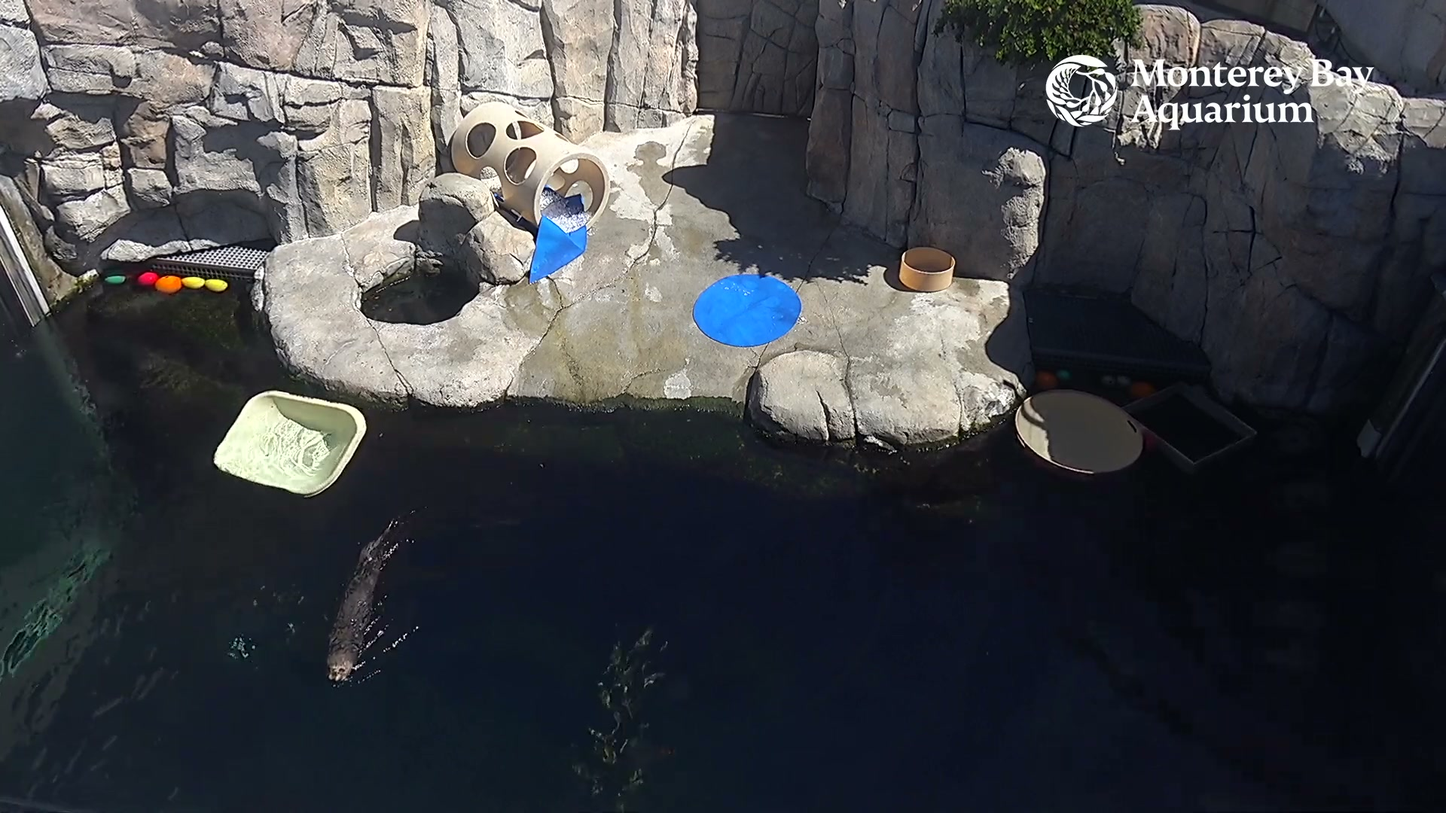Southern Sea Otter: (316, 481, 419, 741)
